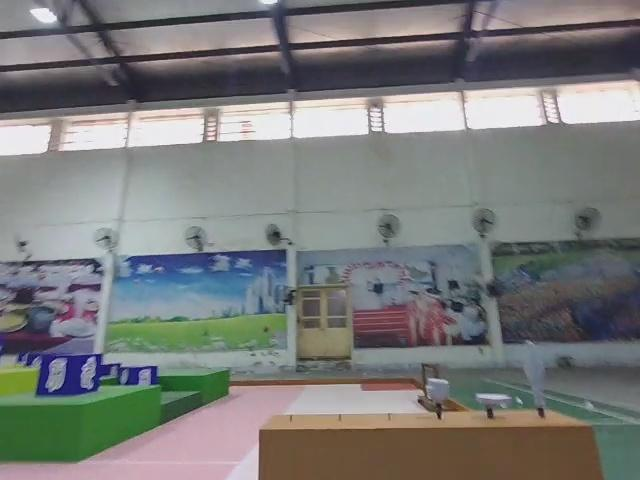Fist: (425, 374, 452, 420)
Hand: (475, 393, 508, 422)
Sph: (525, 339, 550, 420)
